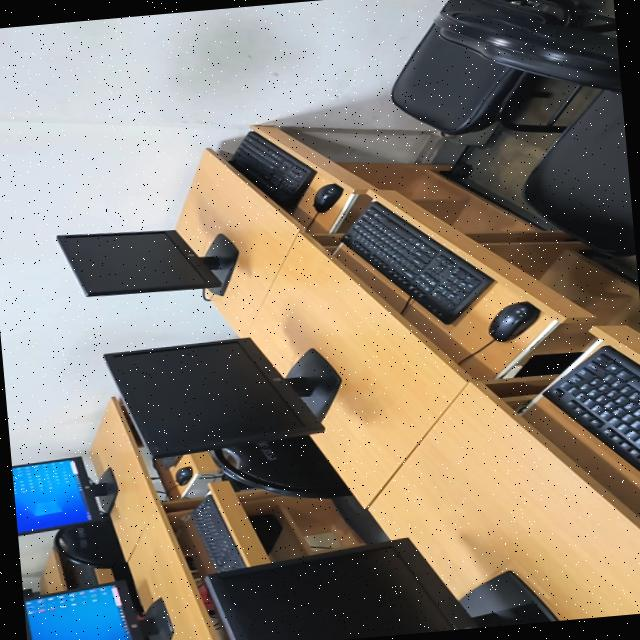Chair: (434, 0, 635, 255), (391, 22, 566, 135), (210, 434, 388, 541), (54, 515, 124, 567), (506, 0, 616, 31)
Keyboard: (342, 200, 493, 322), (542, 344, 640, 471), (229, 130, 314, 210), (188, 491, 245, 571)
Monitor: (205, 536, 559, 640), (104, 336, 341, 456), (56, 229, 238, 295), (23, 580, 172, 640), (11, 455, 117, 534), (488, 300, 540, 340), (313, 183, 342, 211), (175, 465, 192, 484)
